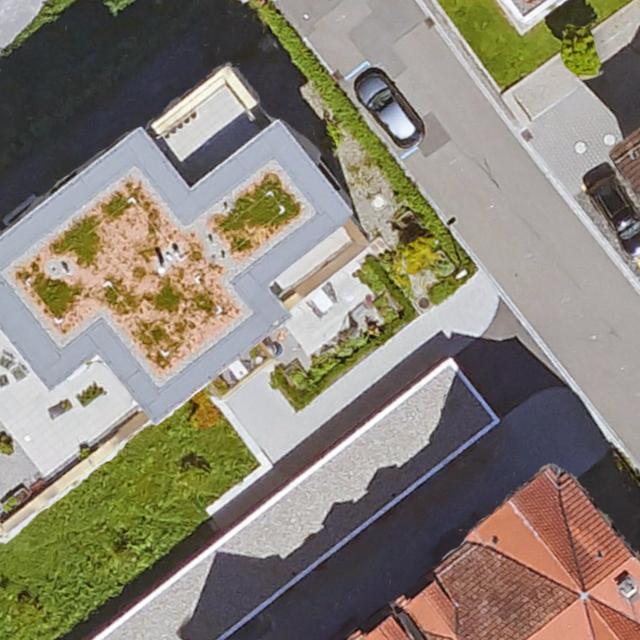tree: (394, 232, 442, 276), (561, 32, 602, 71)
